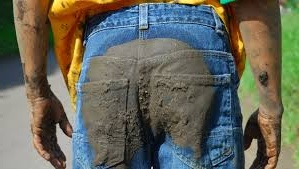earth: (91, 59, 201, 136), (112, 43, 189, 58), (101, 141, 134, 162)
